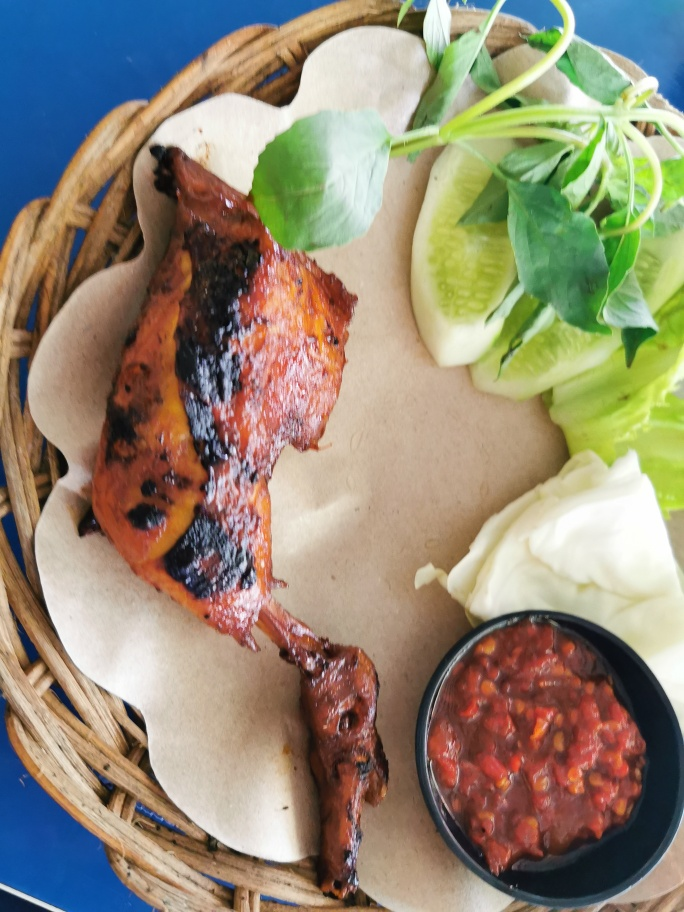ayam bakar: (94, 130, 408, 896)
